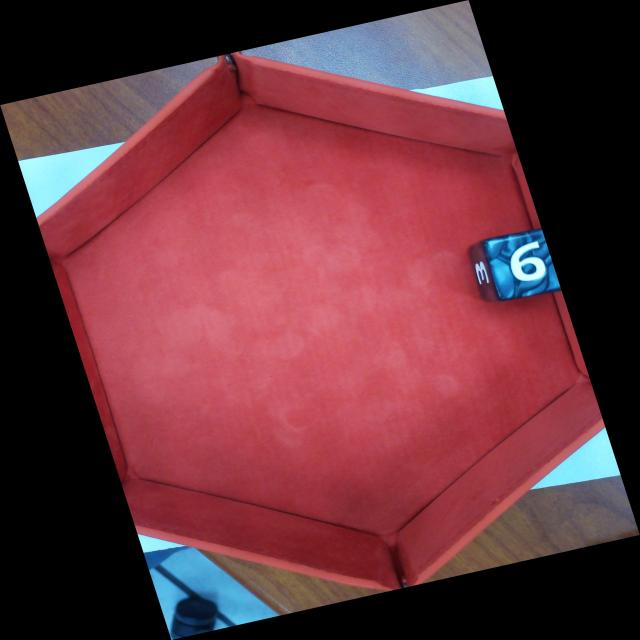dice: (481, 227, 562, 302)
